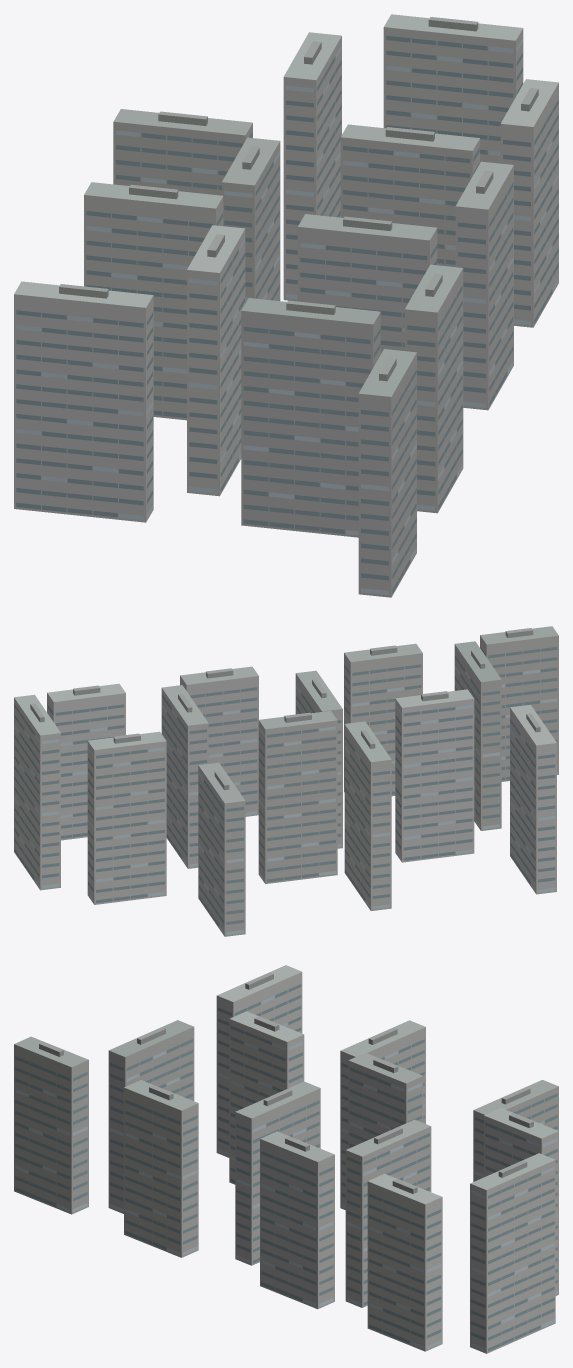
Rendered from apt-a14320304.glb.
3 renders of one model, top to bottom at view 1: azimuth 30°, elevation 25°; view 2: azimuth 150°, elevation 25°; view 3: azimuth 270°, elevation 25°, orthographic. The views are drawn at different scales.
Parts seen in each view (by area): view 1: apt-a14320304; view 2: apt-a14320304; view 3: apt-a14320304.
Part boxes in pixels (left/top/right/bottom): apt-a14320304: left=14, top=14, right=558, bottom=597; apt-a14320304: left=14, top=626, right=558, bottom=936; apt-a14320304: left=14, top=965, right=558, bottom=1353.
Size of the model in its own units: 241 by 82 by 240.
